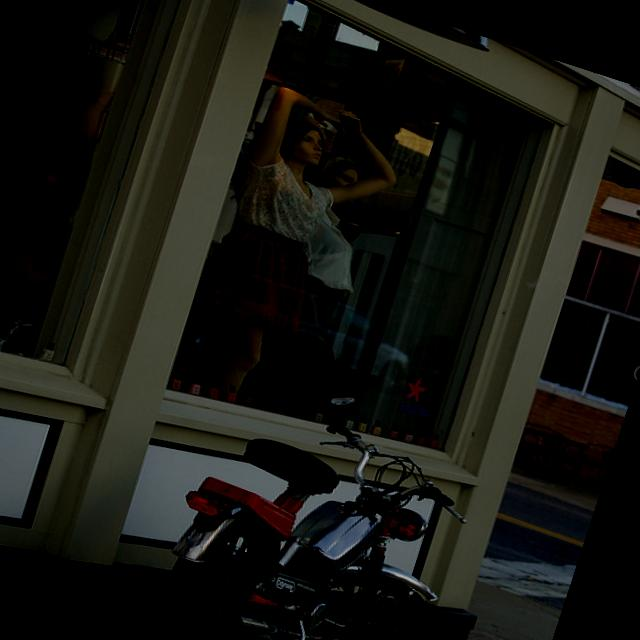Vehicle: (144, 339, 521, 640)
